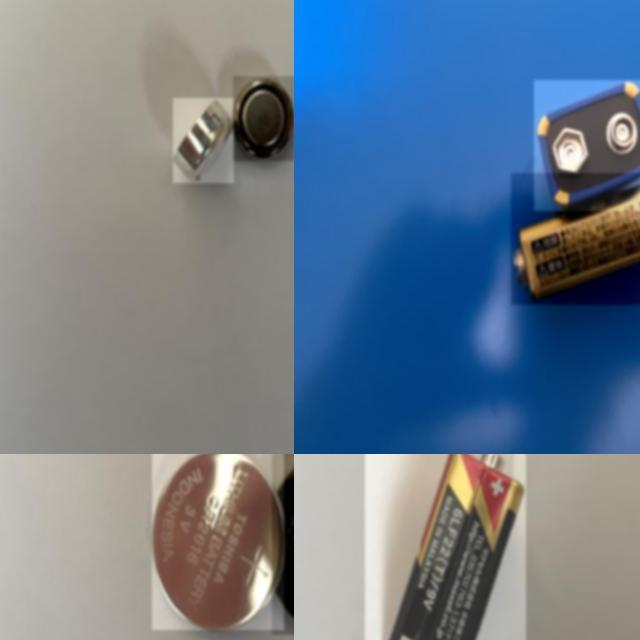9V: (365, 454, 526, 640), (511, 173, 640, 304), (534, 80, 640, 211)
